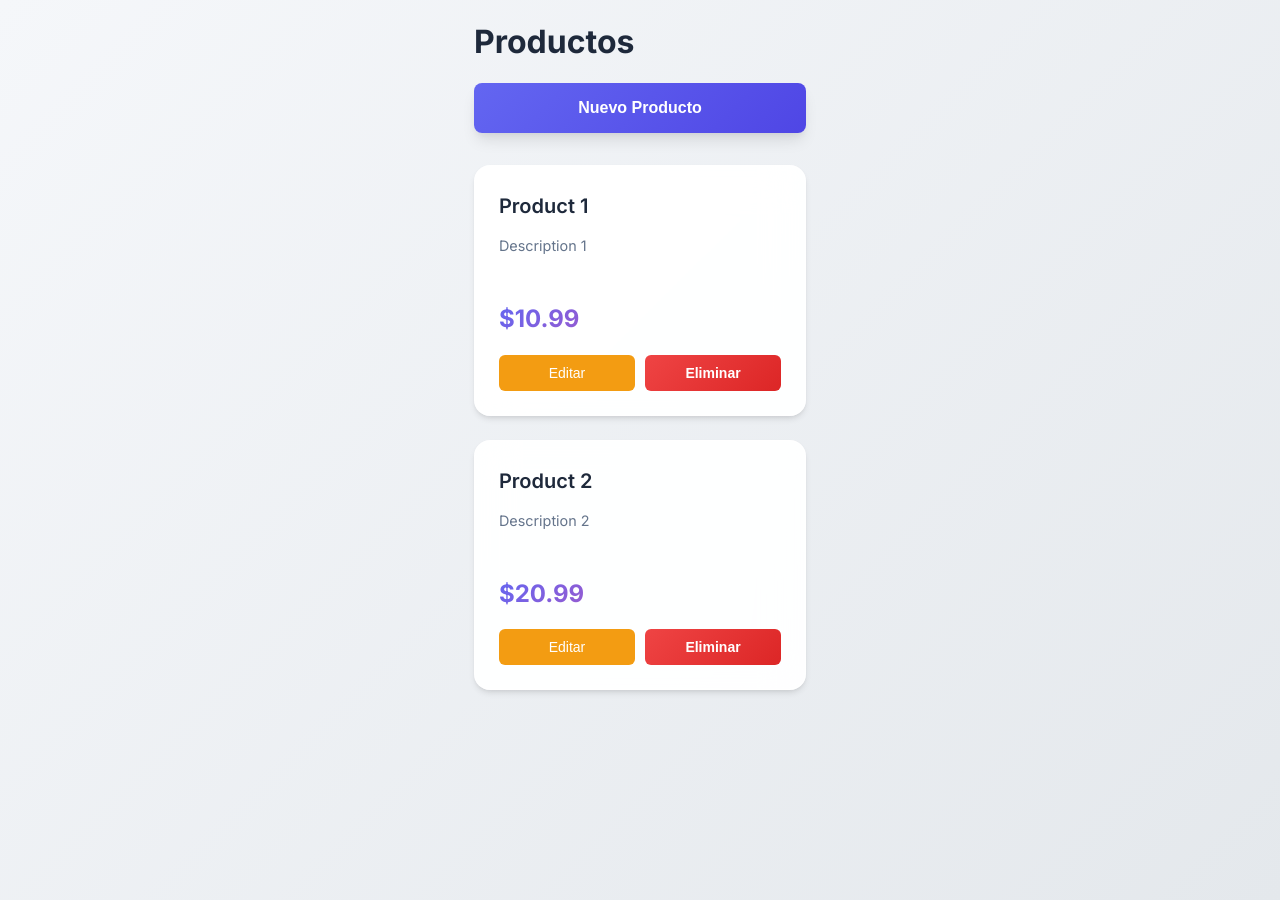
Test: Products › should toggle create product form when button is clicked
Note: Click "Nuevo Producto" button
Click the button "Nuevo Producto": (640, 108) [474, 83, 806, 133]
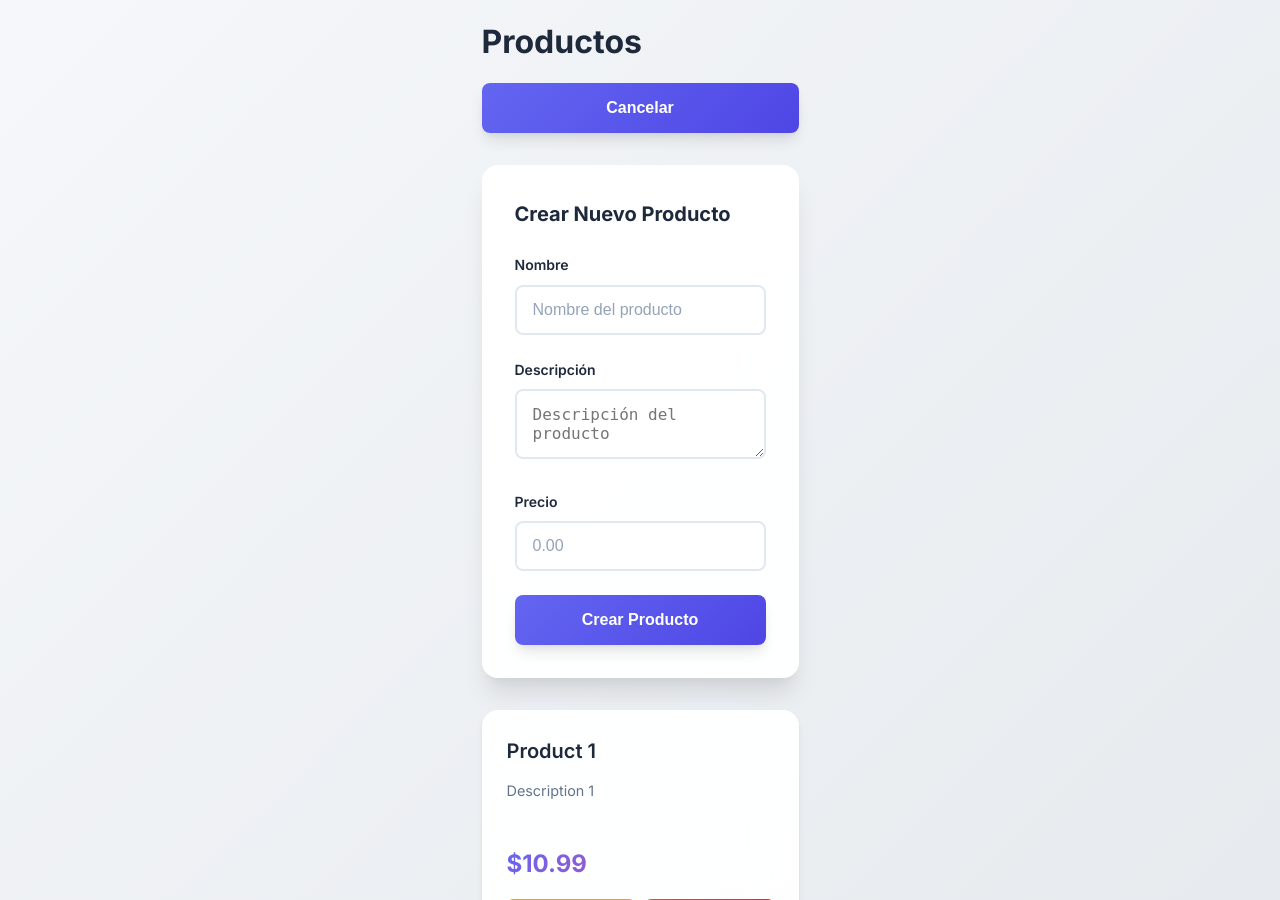
Now the heading "Crear Nuevo Producto" is shown, box [514, 198, 766, 230]
Note: Click "Cancelar" button
Click the button "Cancelar": (640, 108) [482, 83, 798, 133]
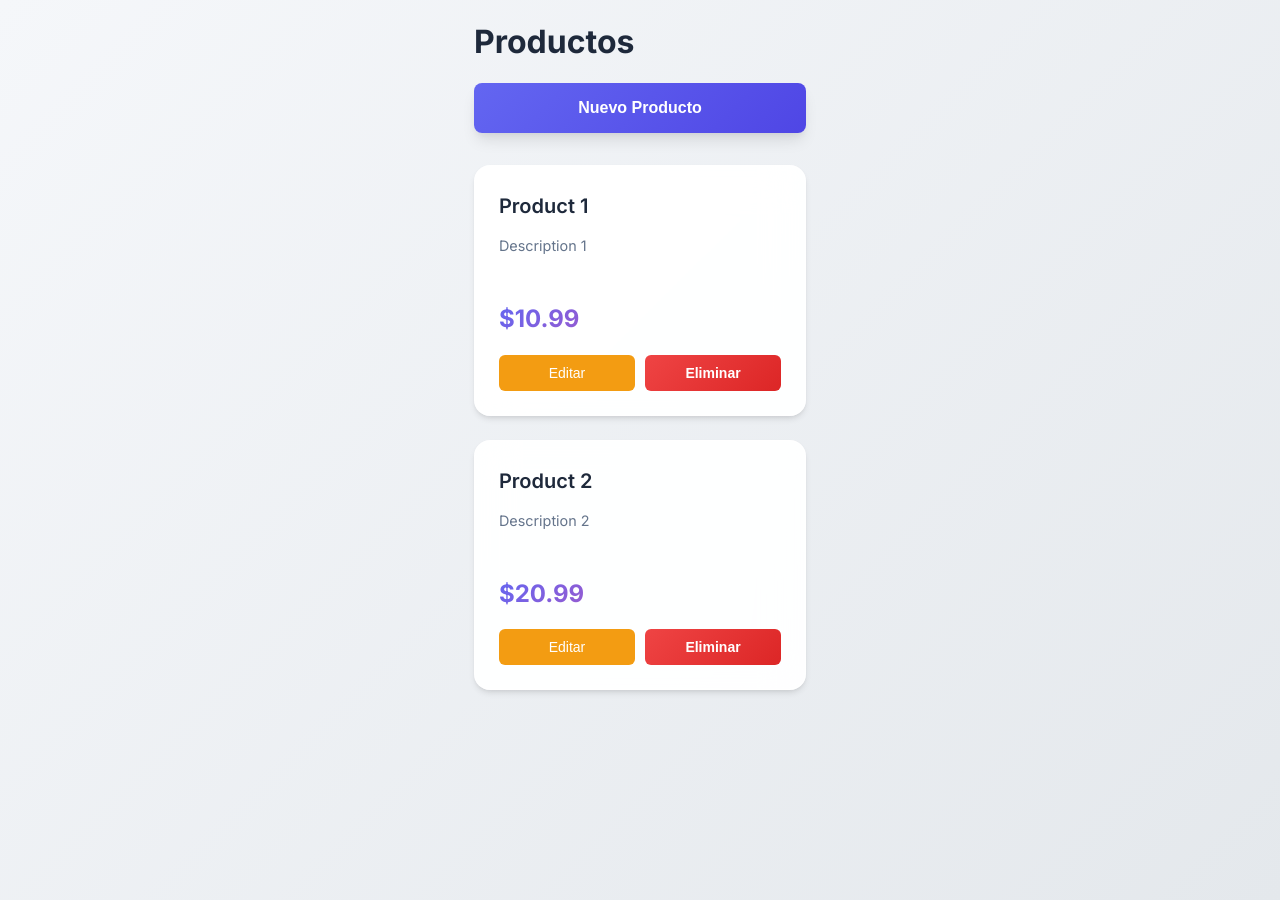
Now the heading "Crear Nuevo Producto" is gone
